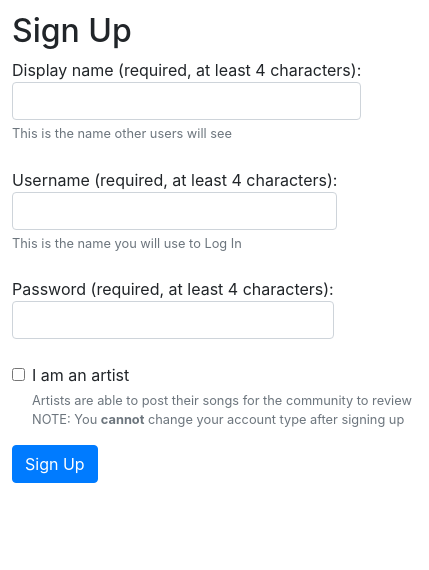
shows errors if inputs are too short
The image size is (429, 570).
Type "ha" into the field labelled "Display".
click(187, 101); type("ha")  # box [12,82,361,120]
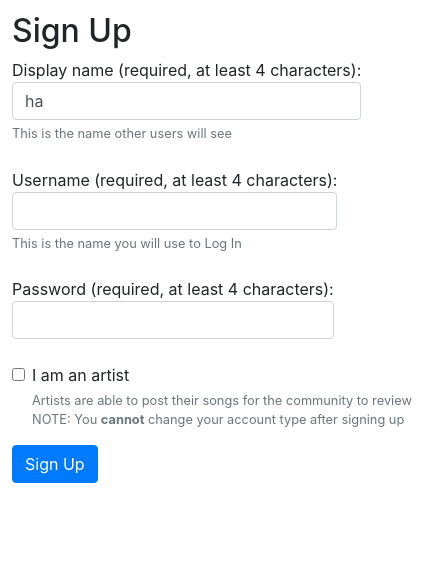
Type "ha" into the field labelled "Username".
click(175, 211); type("ha")  # box [12,192,337,230]
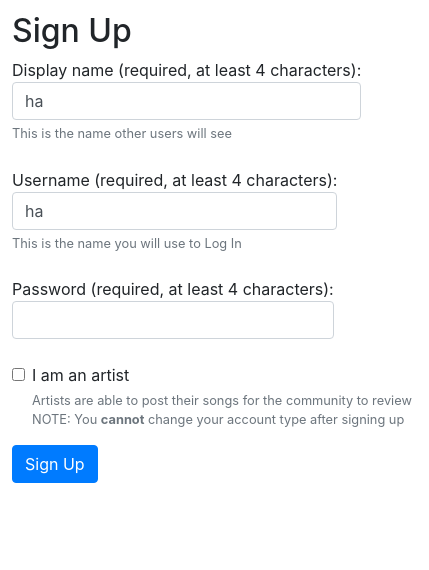
Type "ha" into the password field labelled "Password (required, at least 4 characters):".
click(173, 320); type("ha")  # box [12,301,334,339]
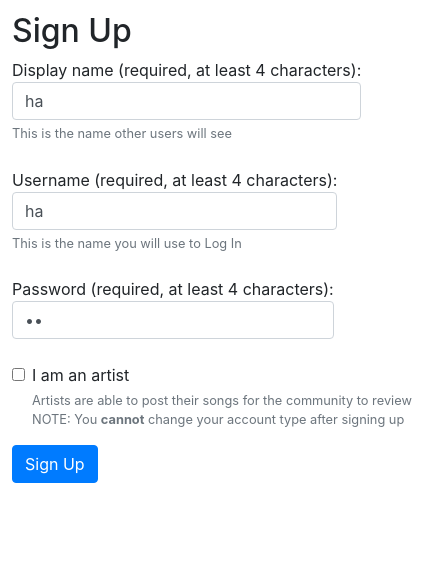
Click the button "Sign Up".
click(55, 464)  # box [12,445,98,483]
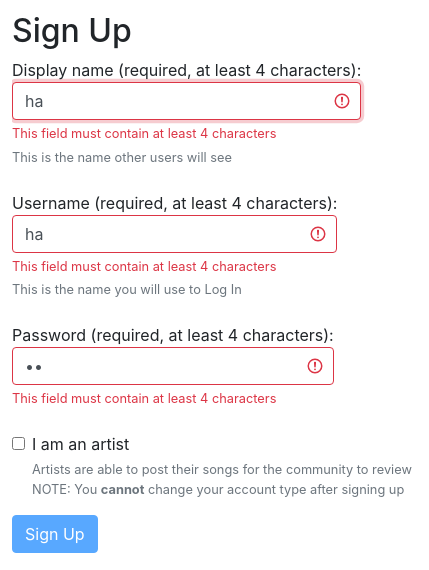
Check: the text "This field must contain at least 4 characters" is shown 3 times, box [12,126,276,141]; [12,259,276,274]; [12,391,276,406]
